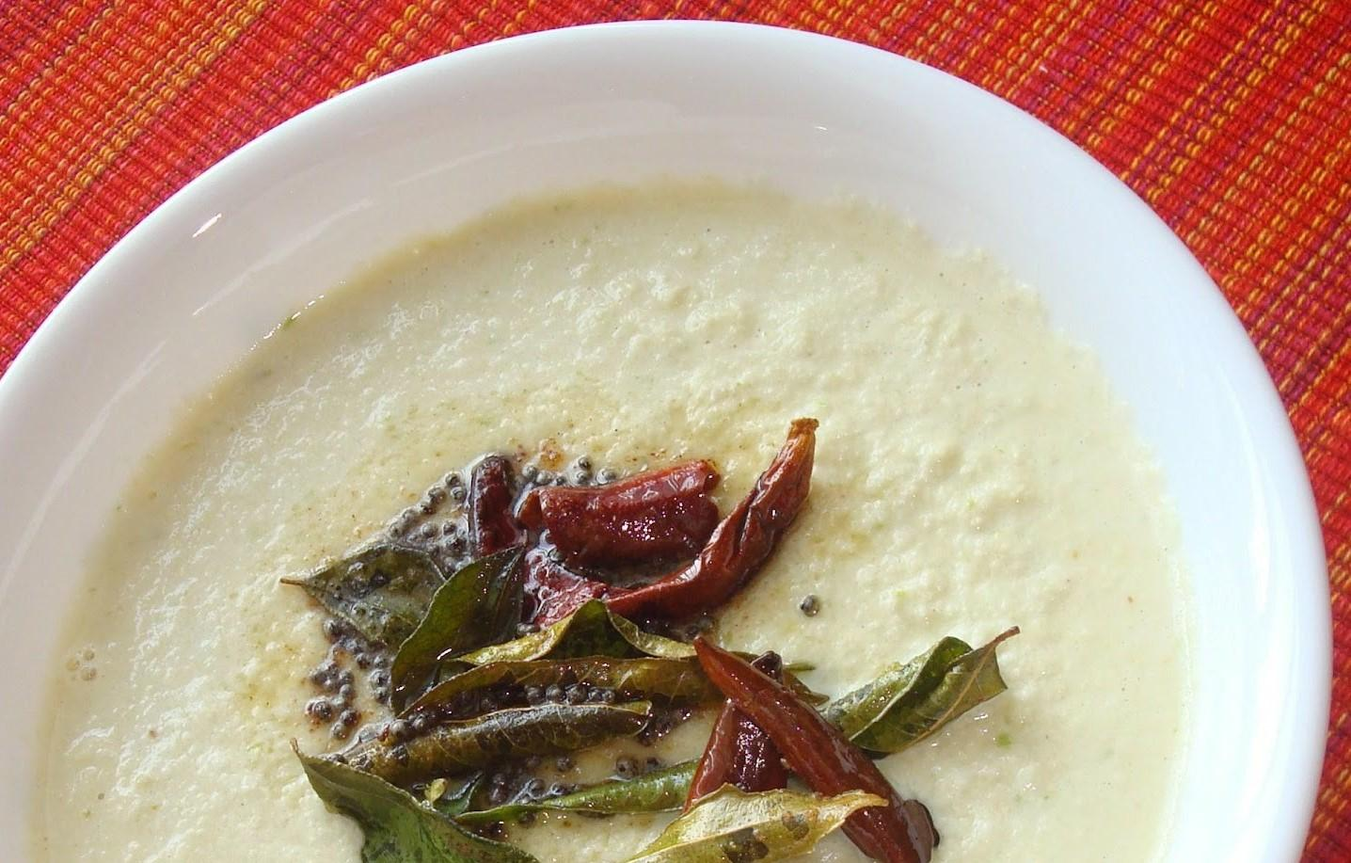CoconutChutney: (53, 192, 1191, 863)
